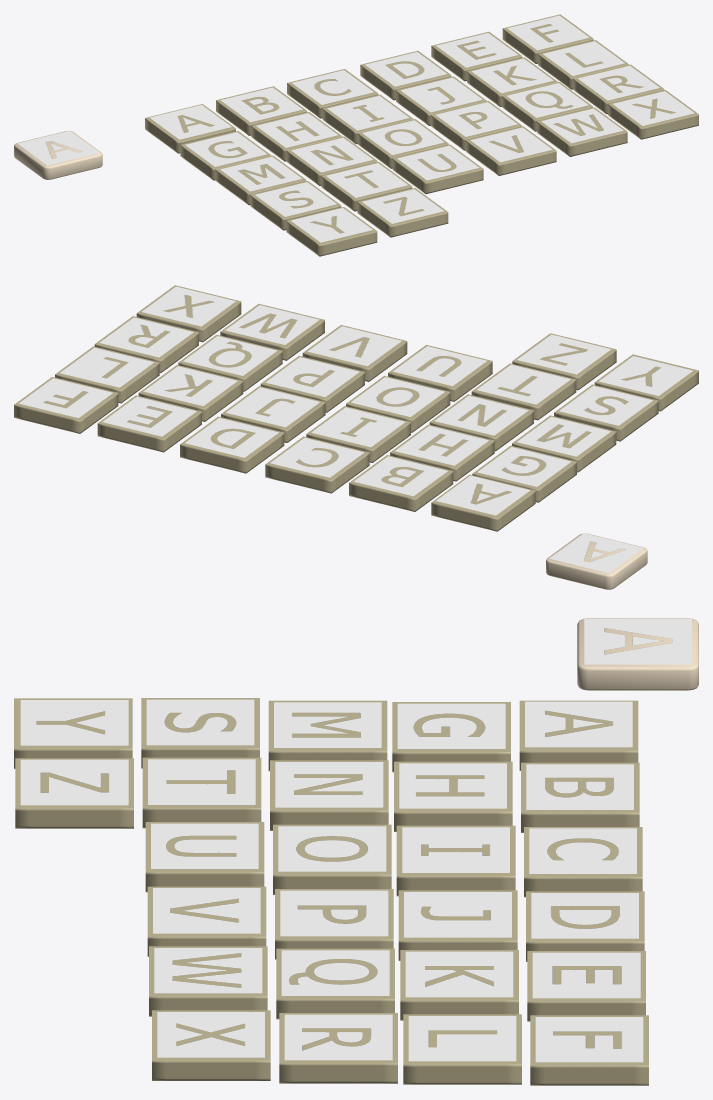
File: Tiles.glb
3 renders of one model, top to bottom at view 1: azimuth 30°, elevation 25°; view 2: azimuth 150°, elevation 25°; view 3: azimuth 270°, elevation 25°, orthographic. The views are drawn at different scales.
Parts seen in each view (by area): view 1: Plane.026, Cube.022, Cube.020, Cube.025, Cube.023, Cube.021, Cube.024, Plane.008, Plane.009, Plane.011, Plane.024, Plane.019 (+41 smaller); view 2: Plane.026, Cube.001, Cube.003, Cube.004, Cube, Cube.002, Cube.005, Plane.008, Plane.009, Plane.011, Plane.024, Plane.019 (+41 smaller); view 3: Plane.026, Plane.011, Plane.008, Plane.024, Plane.009, Plane.015, Plane.025, Plane.005, Plane.019, Plane.018, Plane, Plane.010 (+41 smaller).
Boxes of the visible parts, bbox=[...] form: Plane.026: bbox=[14, 130, 102, 179]; Cube.022: bbox=[536, 107, 627, 156]; Cube.020: bbox=[392, 144, 483, 194]; Cube.025: bbox=[357, 188, 448, 237]; Cube.023: bbox=[608, 90, 698, 139]; Cube.021: bbox=[465, 126, 556, 175]; Cube.024: bbox=[286, 207, 377, 256]; Plane.008: bbox=[327, 95, 409, 130]; Plane.009: bbox=[401, 77, 482, 112]; Plane.011: bbox=[543, 41, 624, 75]; Plane.024: bbox=[291, 208, 372, 242]; Plane.019: bbox=[326, 163, 407, 197]; Plane.026: bbox=[546, 533, 647, 589]; Cube.001: bbox=[349, 455, 453, 511]; Cube.003: bbox=[180, 416, 284, 473]; Cube.004: bbox=[97, 395, 201, 452]; Cube: bbox=[431, 474, 535, 531]; Cube.002: bbox=[265, 436, 369, 493]; Cube.005: bbox=[14, 377, 118, 433]; Plane.008: bbox=[311, 407, 405, 447]; Plane.009: bbox=[226, 387, 319, 427]; Plane.011: bbox=[60, 347, 153, 387]; Plane.024: bbox=[599, 356, 692, 395]; Plane.019: bbox=[477, 364, 570, 404]; Plane.026: bbox=[577, 618, 698, 690]; Plane.011: bbox=[408, 1016, 516, 1061]; Plane.008: bbox=[402, 827, 509, 872]; Plane.024: bbox=[20, 700, 128, 745]; Plane.009: bbox=[404, 892, 511, 937]; Plane.015: bbox=[280, 890, 388, 936]; Plane.025: bbox=[20, 759, 128, 805]; Plane.005: bbox=[535, 1017, 643, 1062]; Plane.019: bbox=[148, 759, 255, 804]; Plane.018: bbox=[146, 699, 254, 745]; Plane: bbox=[525, 701, 632, 747]; Plane.010: bbox=[405, 951, 513, 997].
Size of the model in its own units: 18.53 by 0.8559 by 11.54.
Materials: 3 (2 with a texture image).
